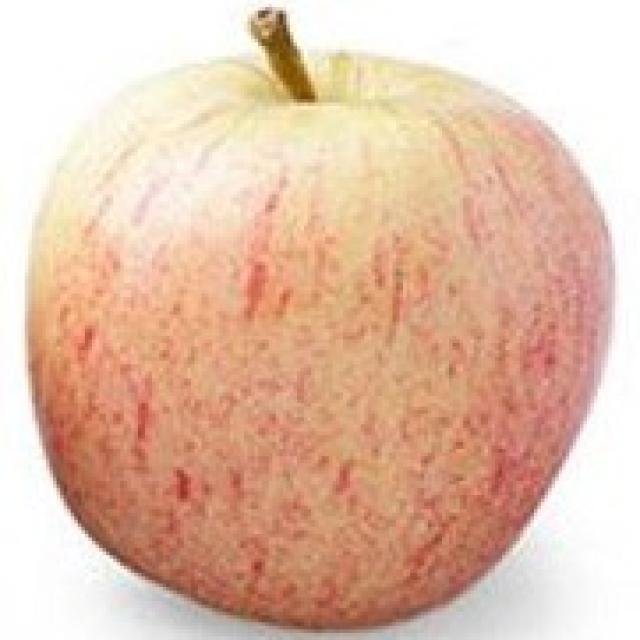75-_ripeness: (24, 51, 620, 632)
